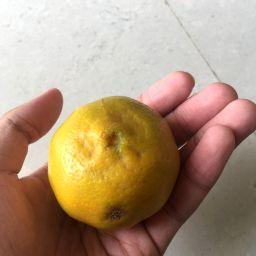Ripe: (49, 95, 175, 233)
